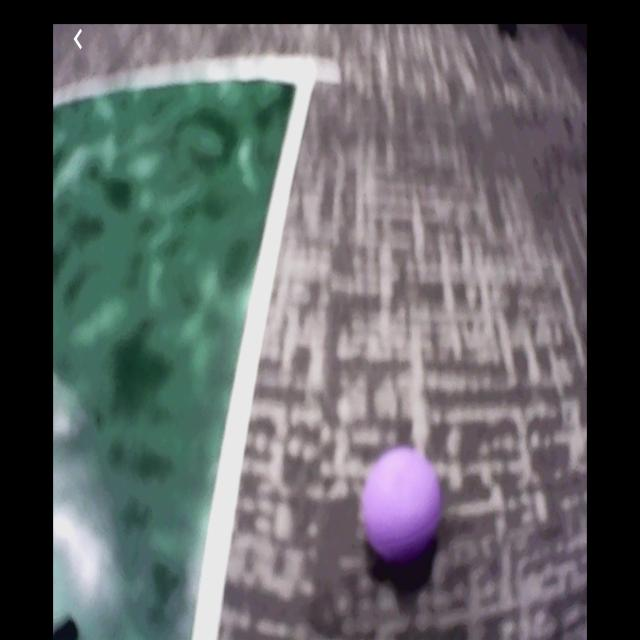ball: (363, 446, 442, 570)
